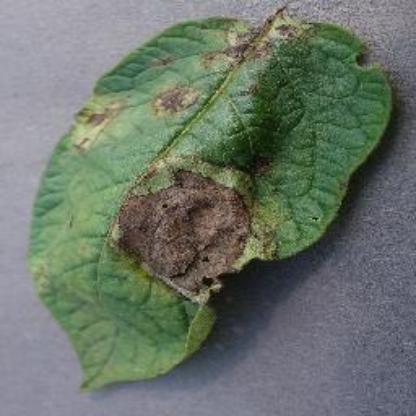Late-Blight: (23, 6, 395, 388)
